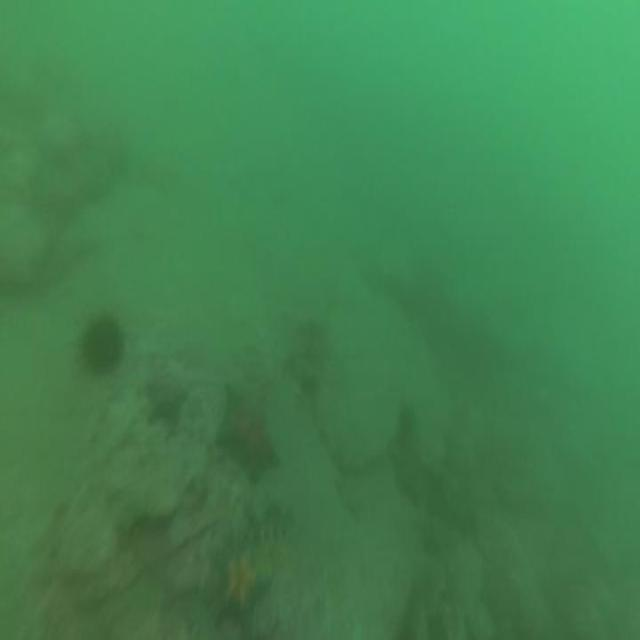echinus: (75, 306, 128, 378), (396, 402, 421, 454)
holothurian: (208, 536, 272, 638), (245, 520, 305, 578)
starfish: (216, 384, 283, 493), (387, 442, 433, 517), (140, 372, 190, 432)
